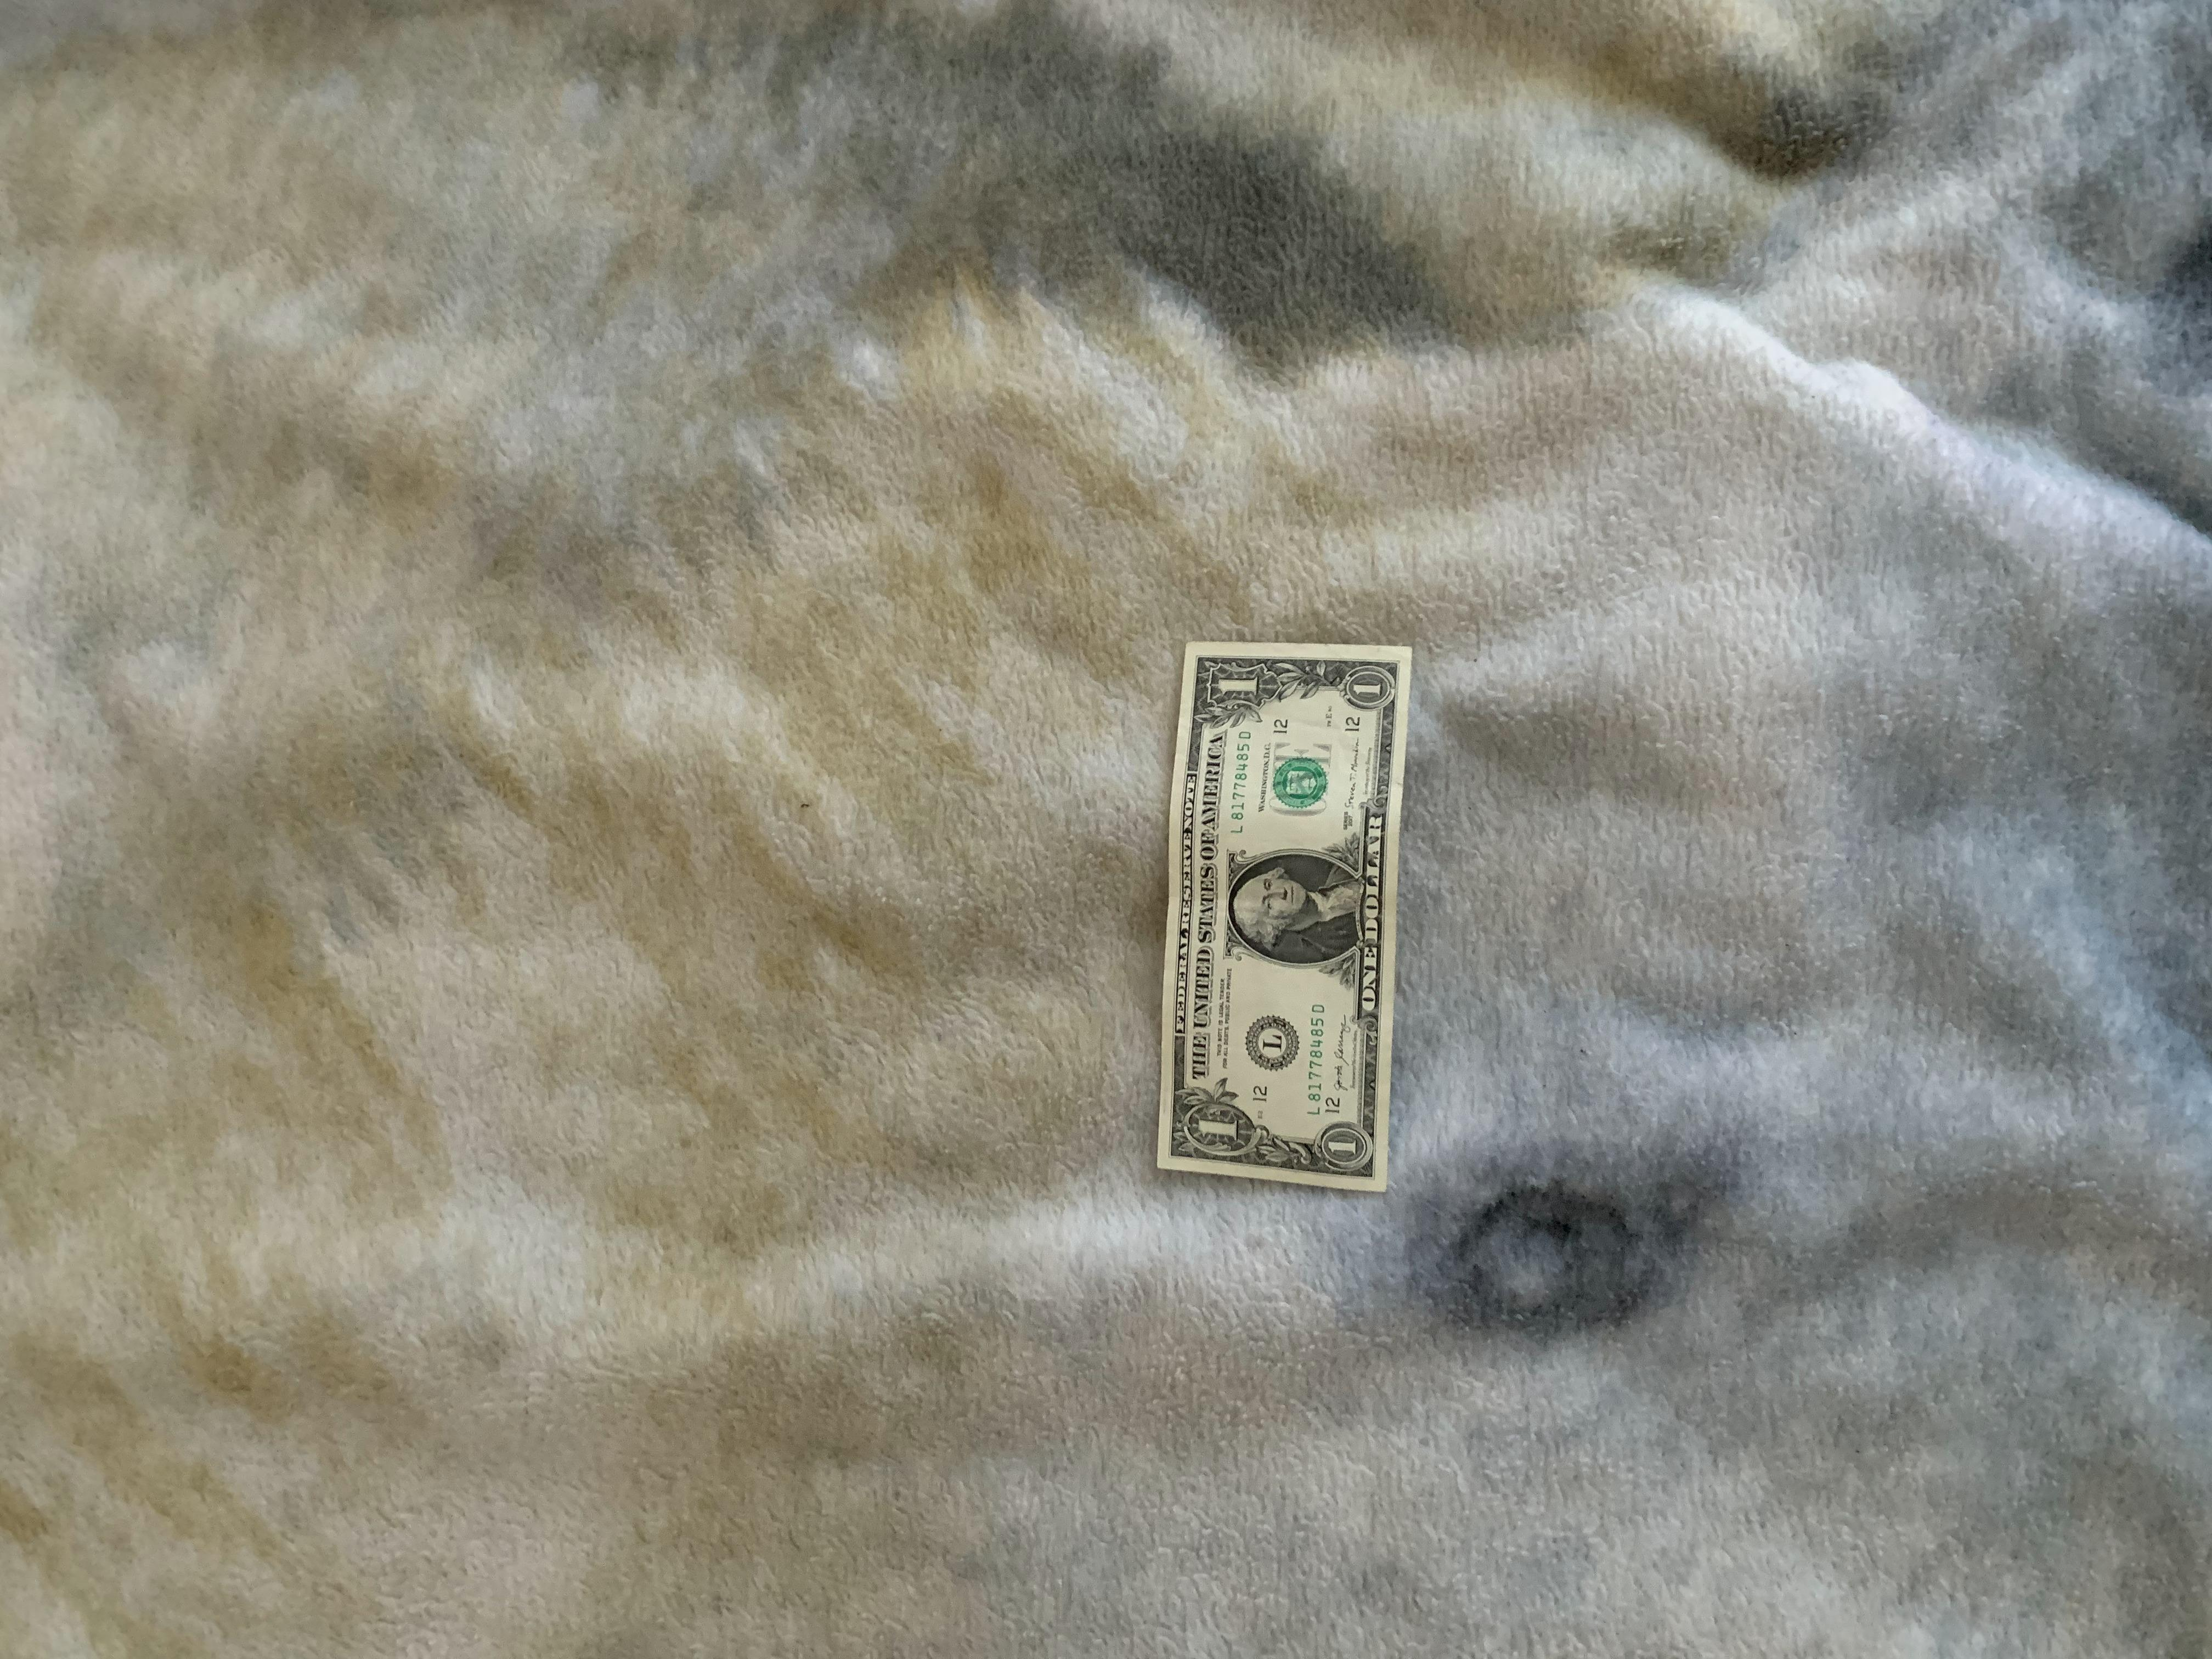OneBill: (1150, 633, 1414, 1197)
